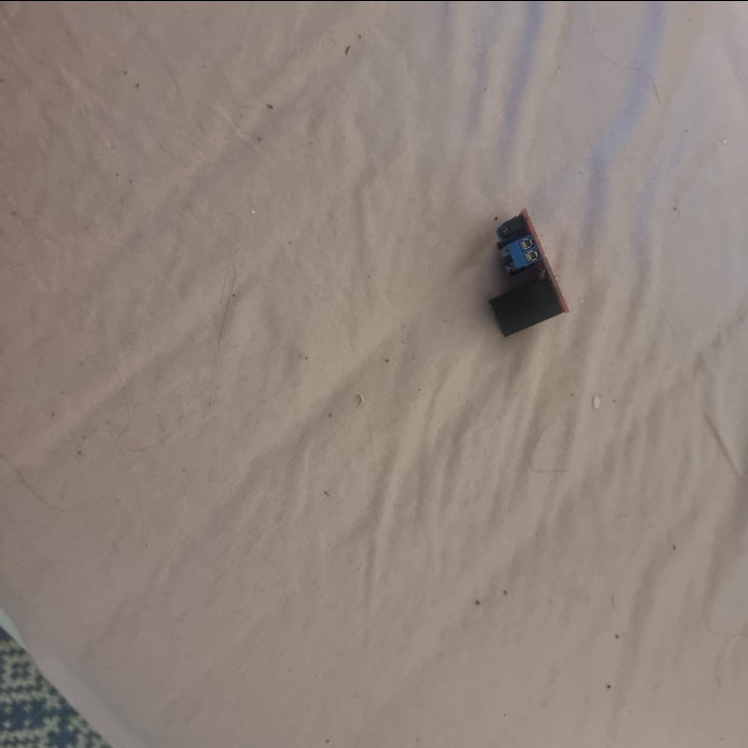MOTOR: (482, 202, 571, 340)
